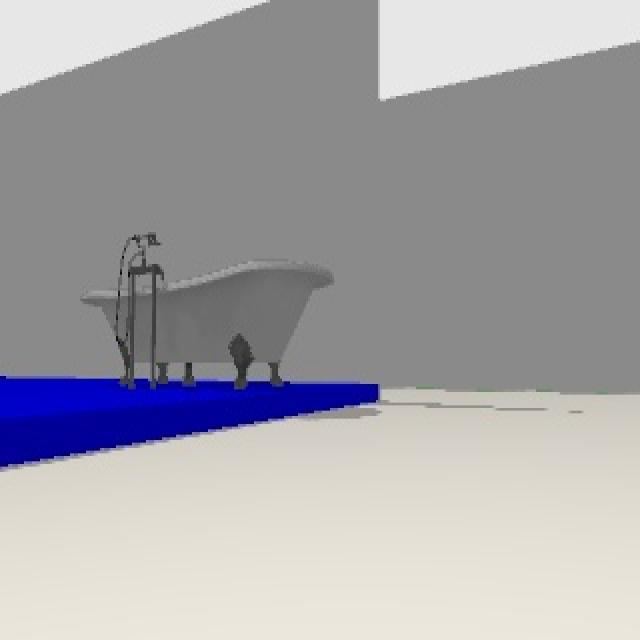bathtub: (84, 233, 330, 389)
